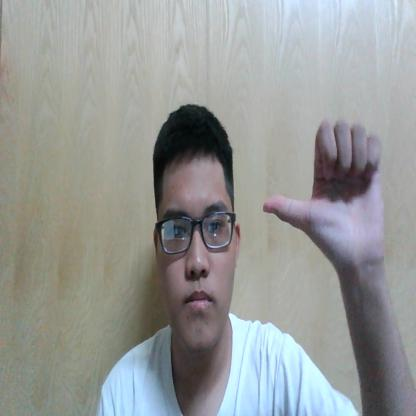right: (264, 116, 384, 269)
